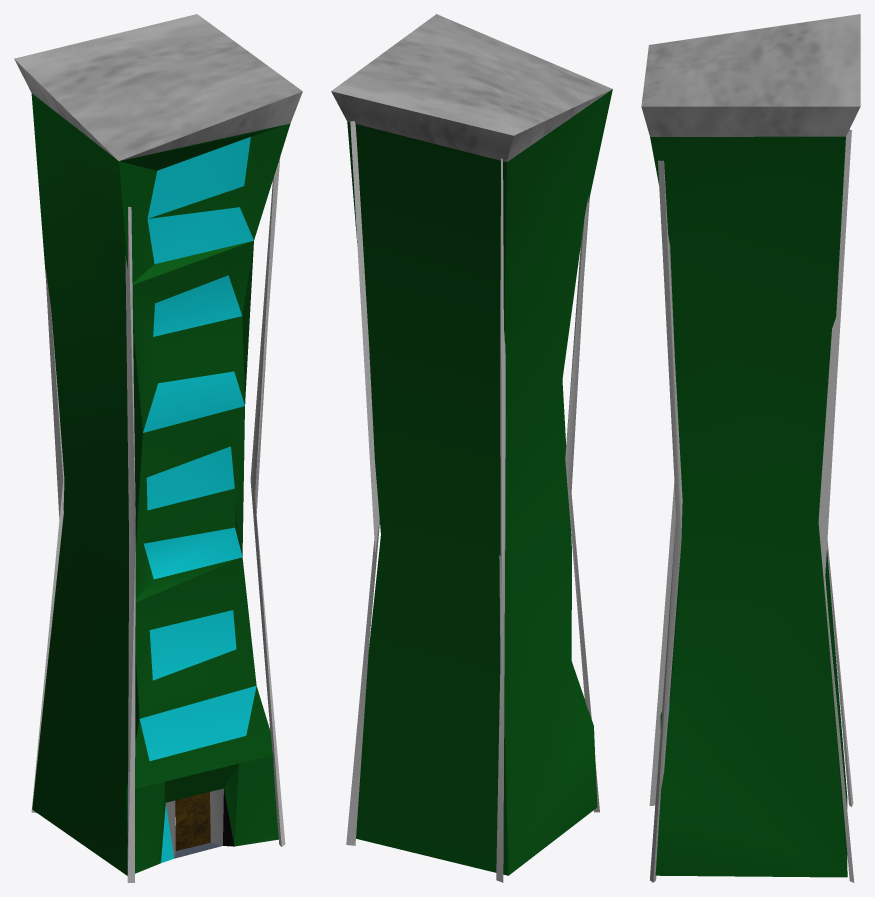
The model's file is PredioAltoFino-VerdeEscuroLOD2.fbx.
The picture shows the model from 3 angles, left to right: view 1: azimuth 30°, elevation 25°; view 2: azimuth 150°, elevation 25°; view 3: azimuth 270°, elevation 25°; orthographic projection. The views are drawn at different scales.
Visible parts, largest first — view 1: PredioAltoFinoLOD2; view 2: PredioAltoFinoLOD2; view 3: PredioAltoFinoLOD2.
Part boxes in pixels (box(x1,y1,x2,y2)): PredioAltoFinoLOD2: box(14, 14, 302, 882); PredioAltoFinoLOD2: box(331, 14, 612, 882); PredioAltoFinoLOD2: box(641, 14, 860, 882).
Size of the model in its own units: 635 by 2499 by 635.
